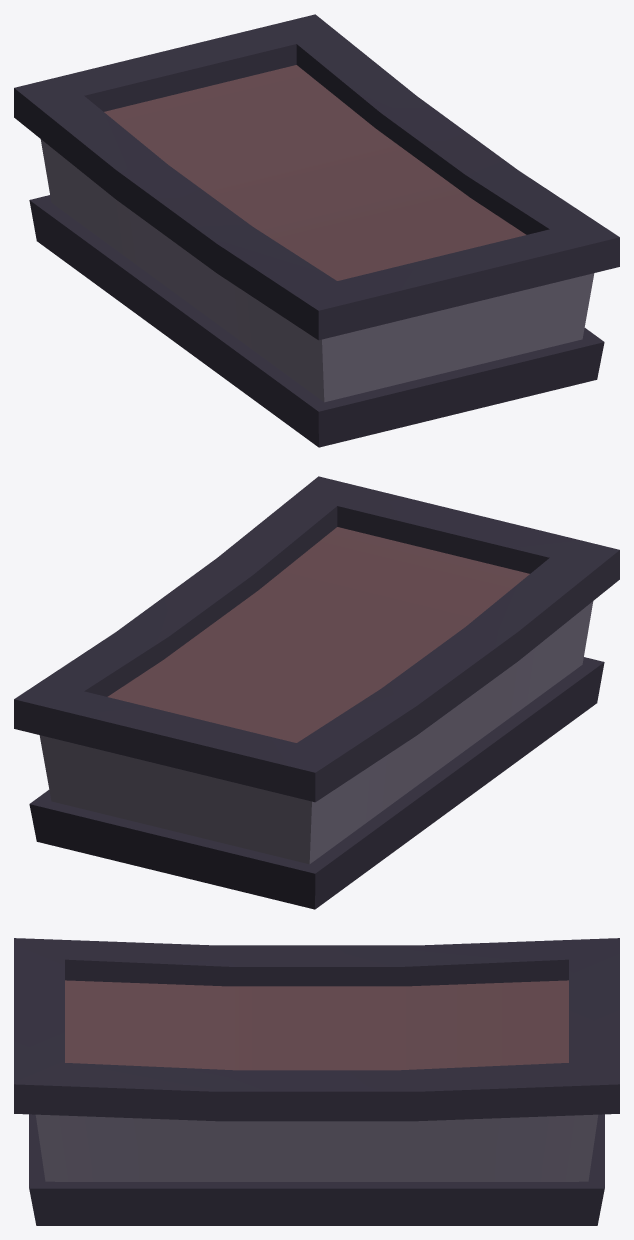
The model's file is stone_flower_bed_01.fbx.
3 views of the same model, one above another, from view 1: azimuth 30°, elevation 25°; view 2: azimuth 150°, elevation 25°; view 3: azimuth 270°, elevation 25° (orthographic).
Parts seen in each view (by area): view 1: stone_flower_bed_01; view 2: stone_flower_bed_01; view 3: stone_flower_bed_01.
Boxes of the visible parts, x1=… form: stone_flower_bed_01: x1=14, y1=14, x2=619, y2=447; stone_flower_bed_01: x1=14, y1=476, x2=619, y2=909; stone_flower_bed_01: x1=14, y1=938, x2=619, y2=1225.
Bounding box in the file's own units: 122 × 57.19 × 214.
